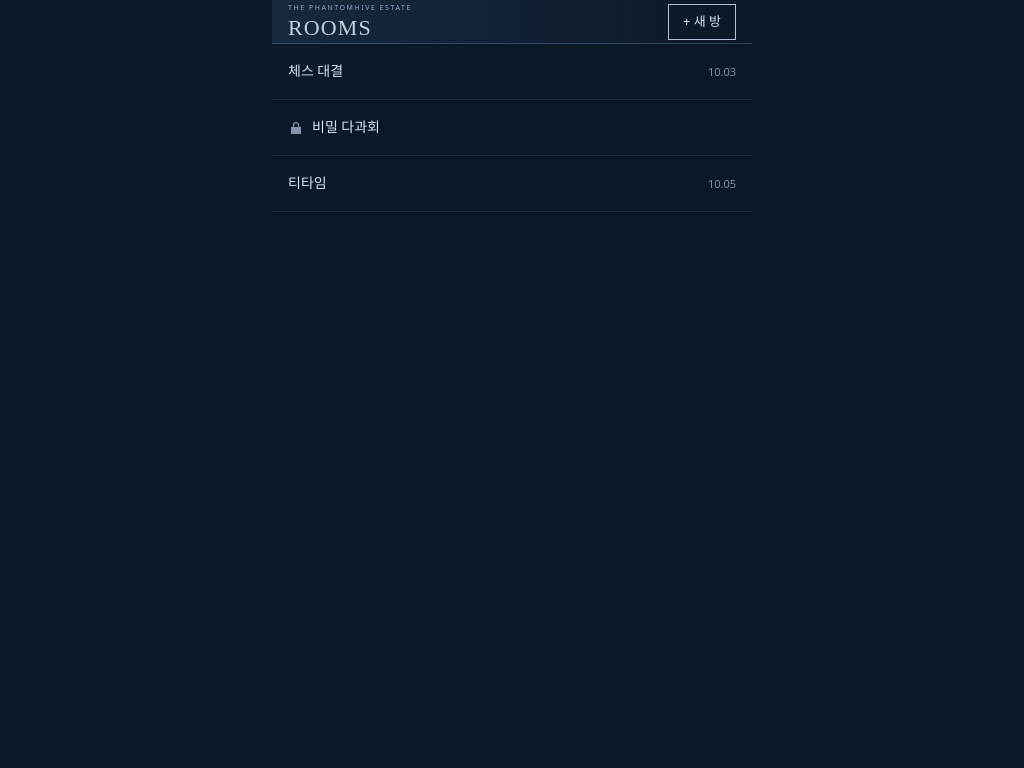
Test: 입장 시트 제출 (F-RM-43 · §6.8 · R-LOCK-004 · R-LOCK-007 · R-LOCK-008) › TC-RM-049(b): 조용한 시도 NETWORK → 시트 + 문구, 읽기 전용 전환 없음
Step 1. Click the button with aria-label "비밀 다과회, 잠긴 방" → [346, 127], box [272,100,752,156]
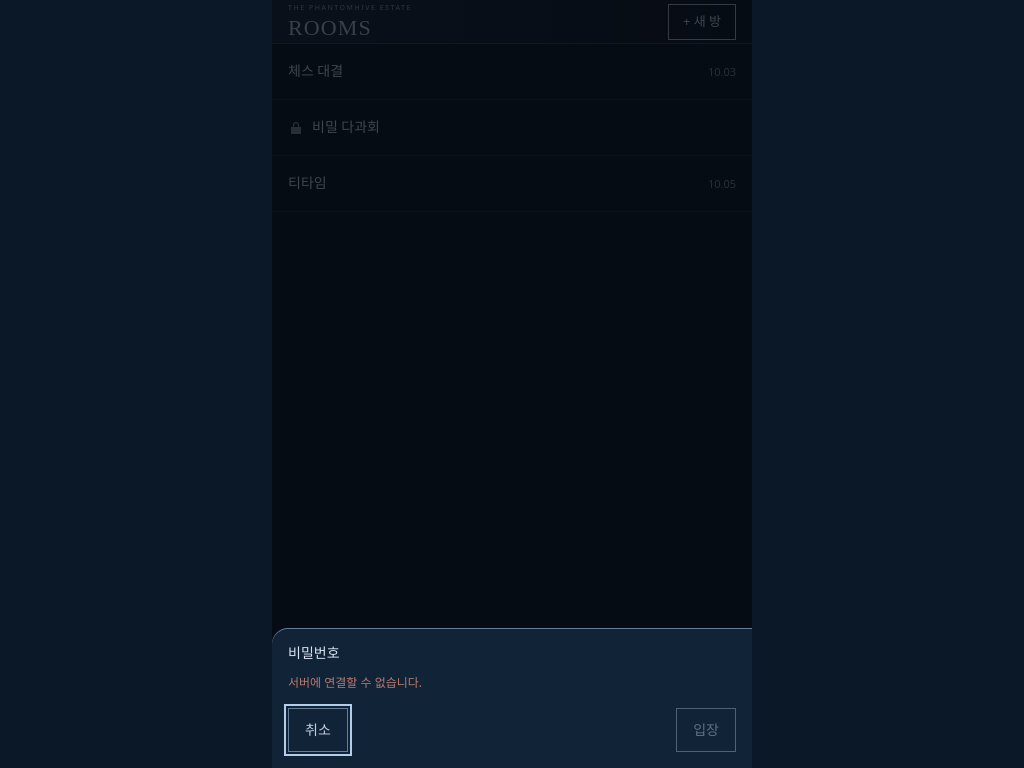
Expected: the button named "새 방 만들기" is shown, [668,4,736,40]
Expected: the message reads "서버에 연결할 수 없습니다.", [288,674,422,691]
